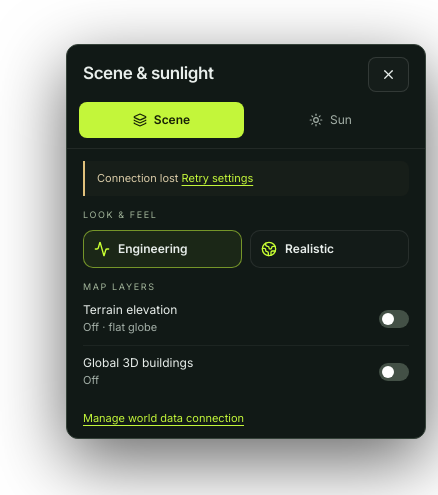
scene and sunlight panel › makes loading failures visible on the Scene tab and supports retry
Expected: the message shows "Connection lost", x1=97 y1=171 x2=178 y2=185
Click the button "Retry settings". click: {"x": 217, "y": 178}
box: x1=182 y1=170 x2=253 y2=187
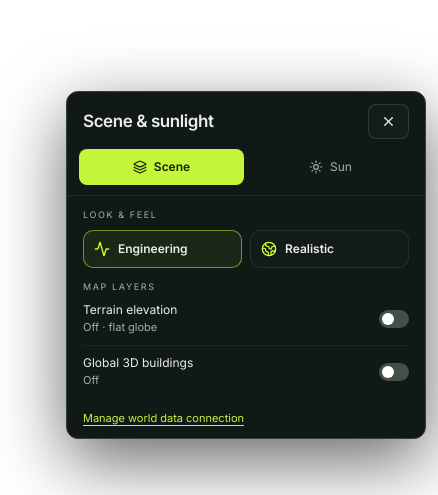
Expected: the message "Connection lost Retry settings" is gone
